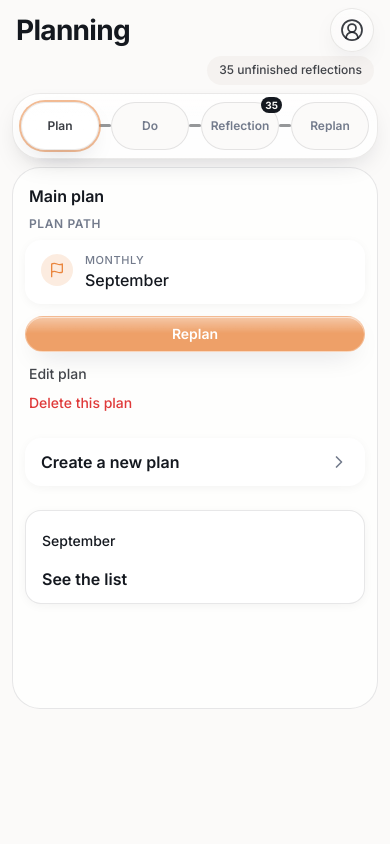
Test case: Plan home › opens Replan and the Do list immediately
Click the button with test id "plan-replan". click: x=195, y=334
box: [25,316,365,352]
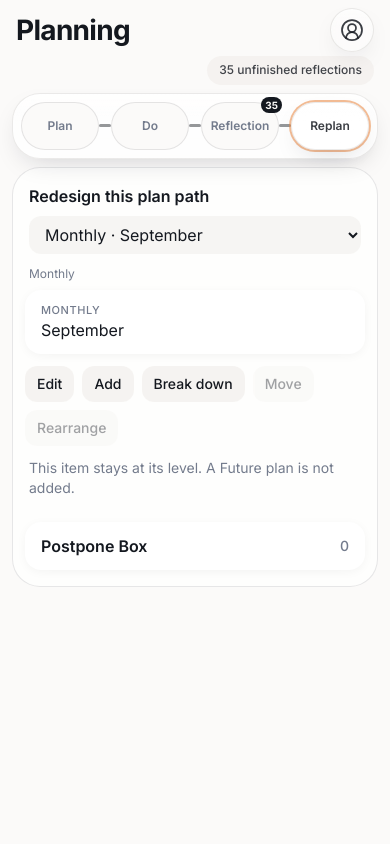
Check: the button with test id "cycle-replan" is marked as current, box [291,102,369,150]
